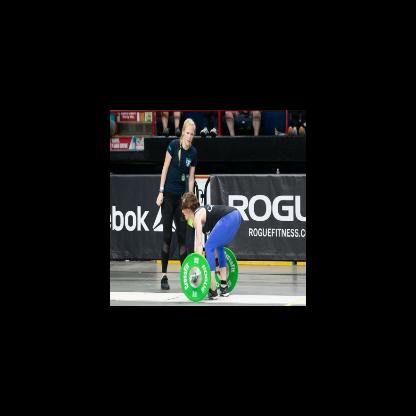barbell: (180, 252, 211, 302)
